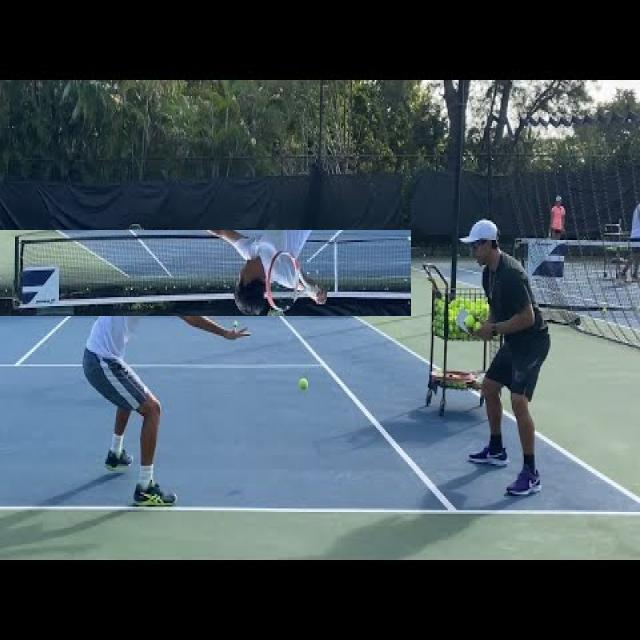court: (0, 299, 637, 533)
net: (0, 230, 411, 316)
player: (68, 206, 260, 515)
